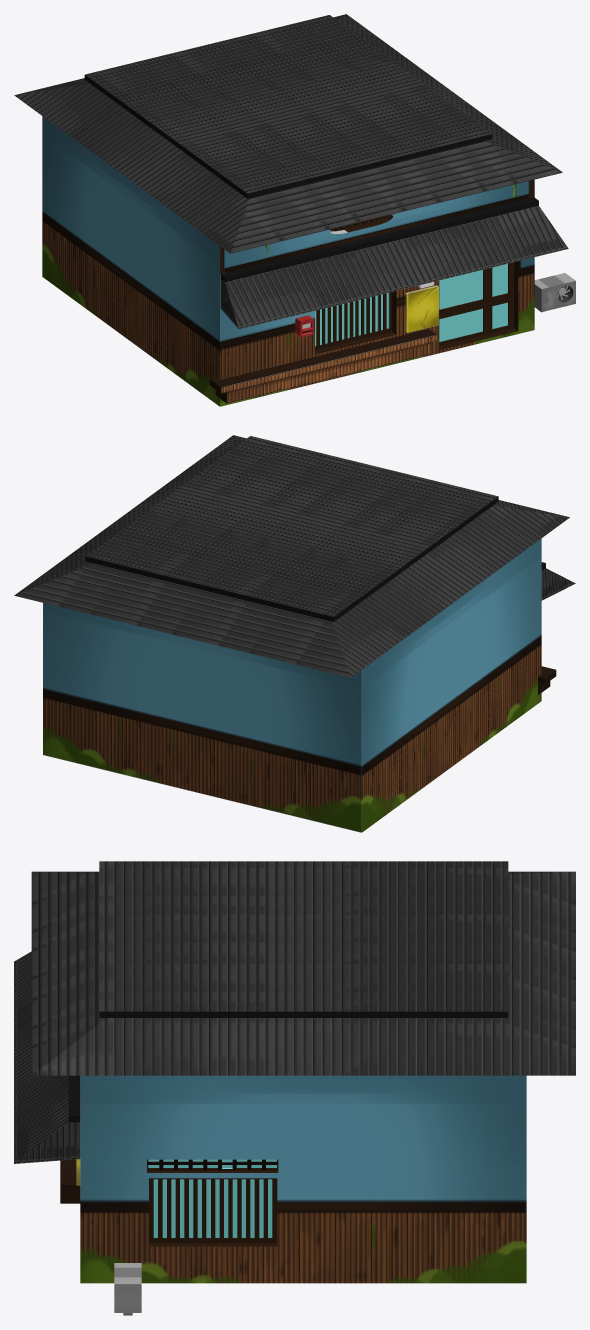
File: House_2_Blue_empty.fbx
The picture shows the model from 3 angles, top to bottom: view 1: azimuth 30°, elevation 25°; view 2: azimuth 150°, elevation 25°; view 3: azimuth 270°, elevation 25°; orthographic projection. The views are drawn at different scales.
Parts seen in each view (by area): view 1: Top, building, Cube.015, Cube.030, Cube.011, Cube.014, Cube.010, Cube.016, Cube.008; view 2: building, Top, Cube.015; view 3: Top, building, Cube.019, Cube.015, Cube.013, Cube.008, Cube.030.
Part boxes in pixels (<box>): Top: <box>14,14,562,253</box>; building: <box>42,116,534,406</box>; Cube.015: <box>220,197,568,329</box>; Cube.030: <box>209,329,436,403</box>; Cube.011: <box>439,269,487,346</box>; Cube.014: <box>315,292,392,350</box>; Cube.010: <box>487,262,514,334</box>; Cube.016: <box>405,285,438,332</box>; Cube.008: <box>534,273,575,312</box>; building: <box>43,538,541,832</box>; Top: <box>14,435,569,677</box>; Cube.015: <box>541,562,575,600</box>; Top: <box>31,861,575,1075</box>; building: <box>80,1075,526,1283</box>; Cube.019: <box>149,1178,277,1243</box>; Cube.015: <box>14,951,80,1163</box>; Cube.013: <box>147,1159,278,1170</box>; Cube.008: <box>114,1263,141,1315</box>; Cube.030: <box>60,1159,80,1203</box>.
Bounding box in the file's own units: 1609 × 812 × 1647.
